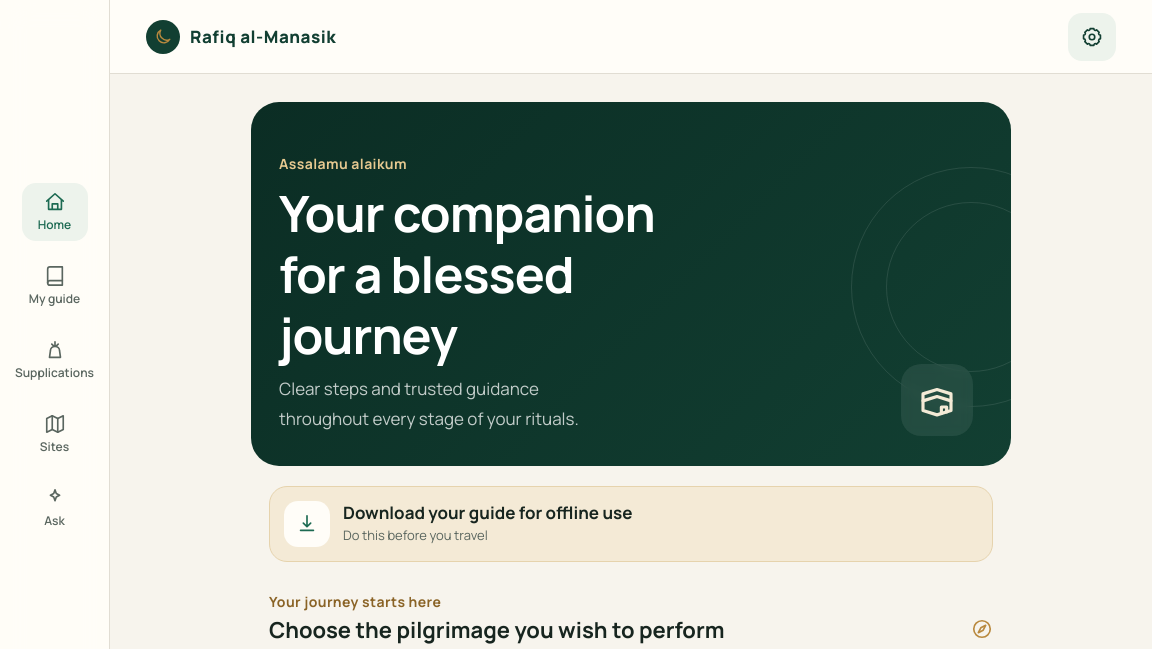
Test: Settings side panel (FR-032) › opens with language inside, closes with Escape and the close button, and returns focus
Click the button named "Settings" at (1092, 36), box [1068,12,1116,60]
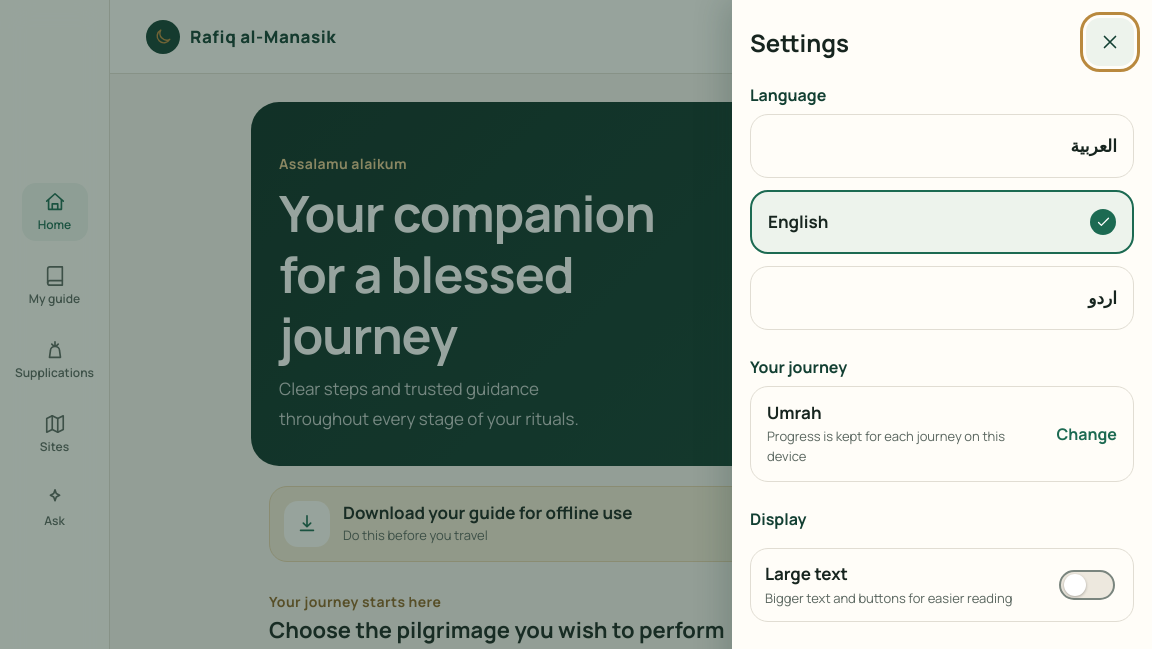
Expected: the button named "Settings" is expanded, [1068,12,1116,60]
Press Escape
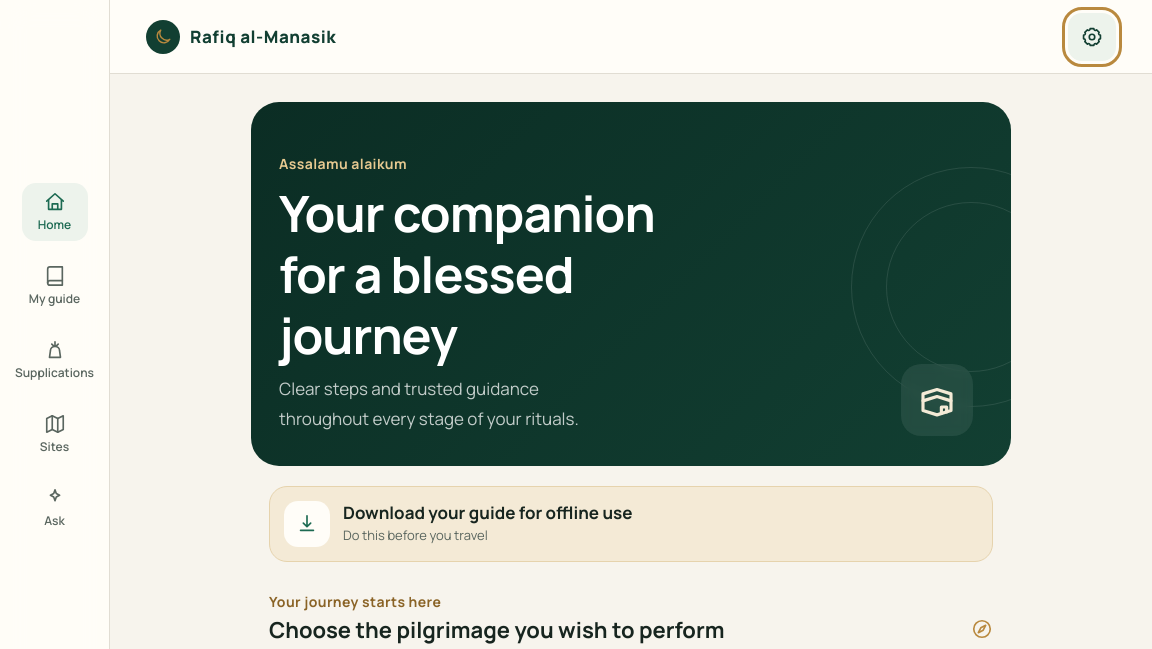
Expected: the button named "Settings" is collapsed
Click the button named "Settings" at (1092, 36), box [1068,12,1116,60]
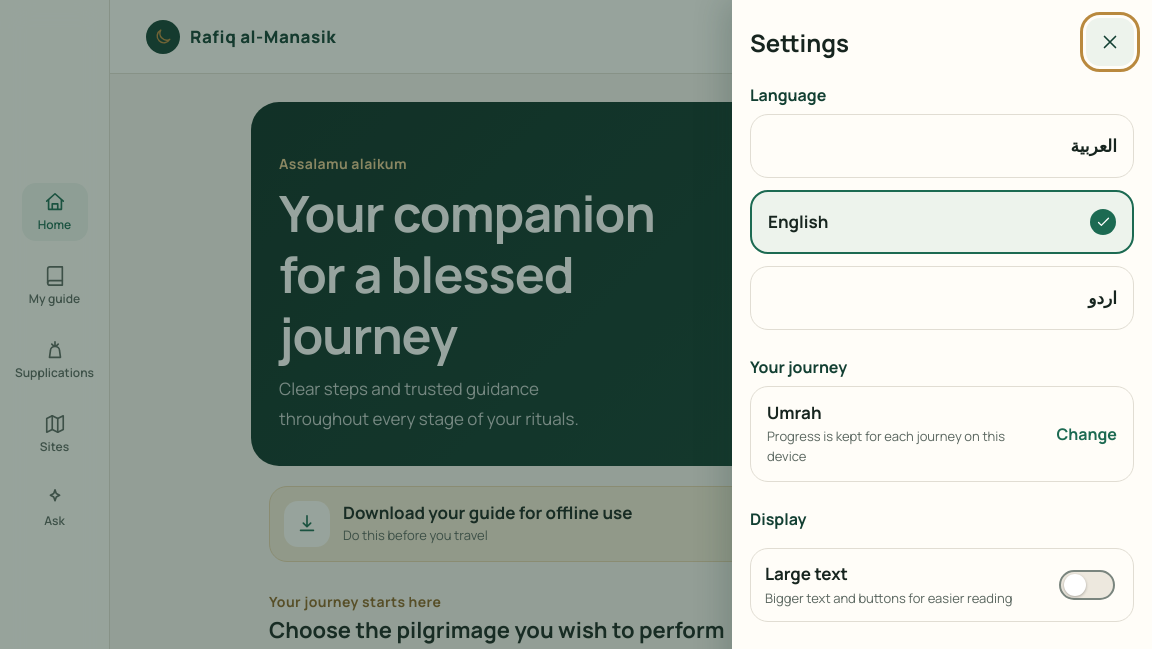
Click the button named "Close settings" at (1110, 42), box [1086,18,1134,66]
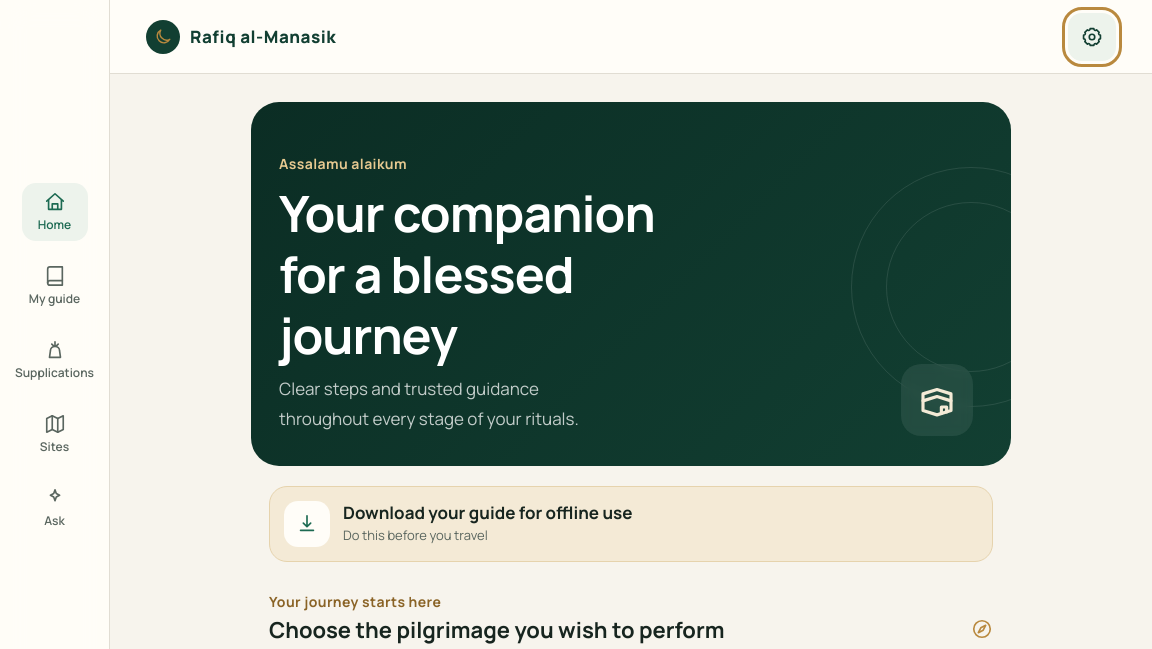
Expected: the button named "Settings" is collapsed, [1068,12,1116,60]
